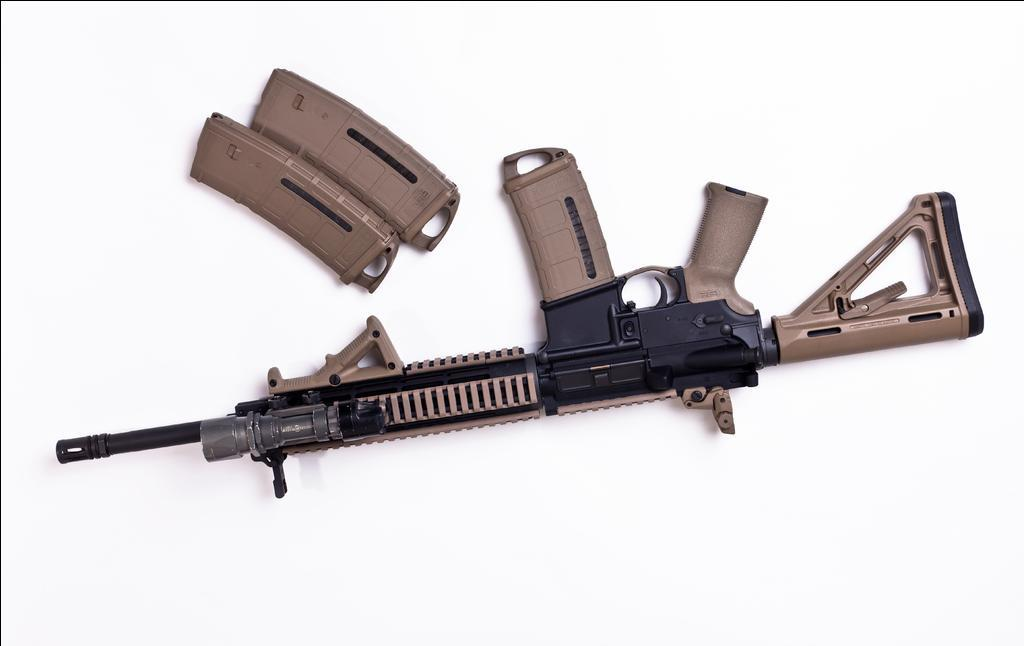gun: (50, 128, 966, 492)
